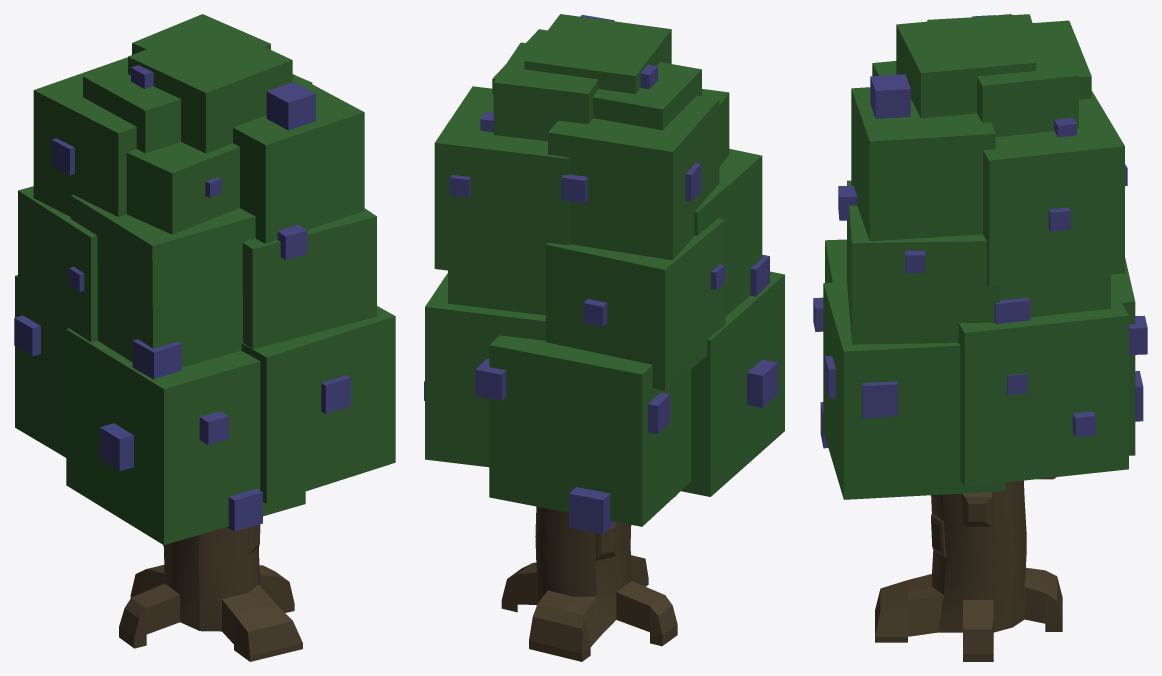
Rendered from Fruit_Tree_Fruity.fbx.
3 renders of one model, left to right at view 1: azimuth 30°, elevation 25°; view 2: azimuth 150°, elevation 25°; view 3: azimuth 270°, elevation 25°, orthographic.
Visible parts, largest first — view 1: Foliage, Trunk, Fruits; view 2: Foliage, Trunk, Fruits; view 3: Foliage, Trunk, Fruits.
Boxes of the visible parts, bbox=[...] form: Foliage: bbox=[15, 14, 395, 544]; Trunk: bbox=[119, 524, 302, 661]; Fruits: bbox=[14, 65, 350, 531]; Foliage: bbox=[425, 14, 784, 526]; Trunk: bbox=[501, 495, 677, 661]; Fruits: bbox=[424, 15, 777, 534]; Foliage: bbox=[823, 14, 1135, 499]; Trunk: bbox=[875, 477, 1062, 661]; Fruits: bbox=[813, 15, 1147, 493].
Size of the model in its own units: 238 by 488 by 256.
